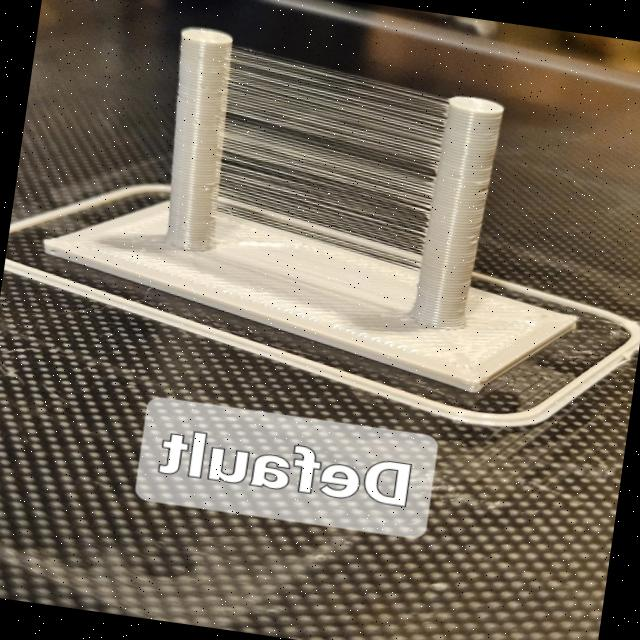stringing: (217, 50, 438, 267)
